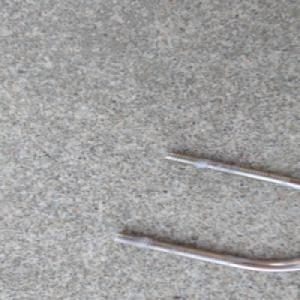ClampPart: (110, 151, 300, 275)
